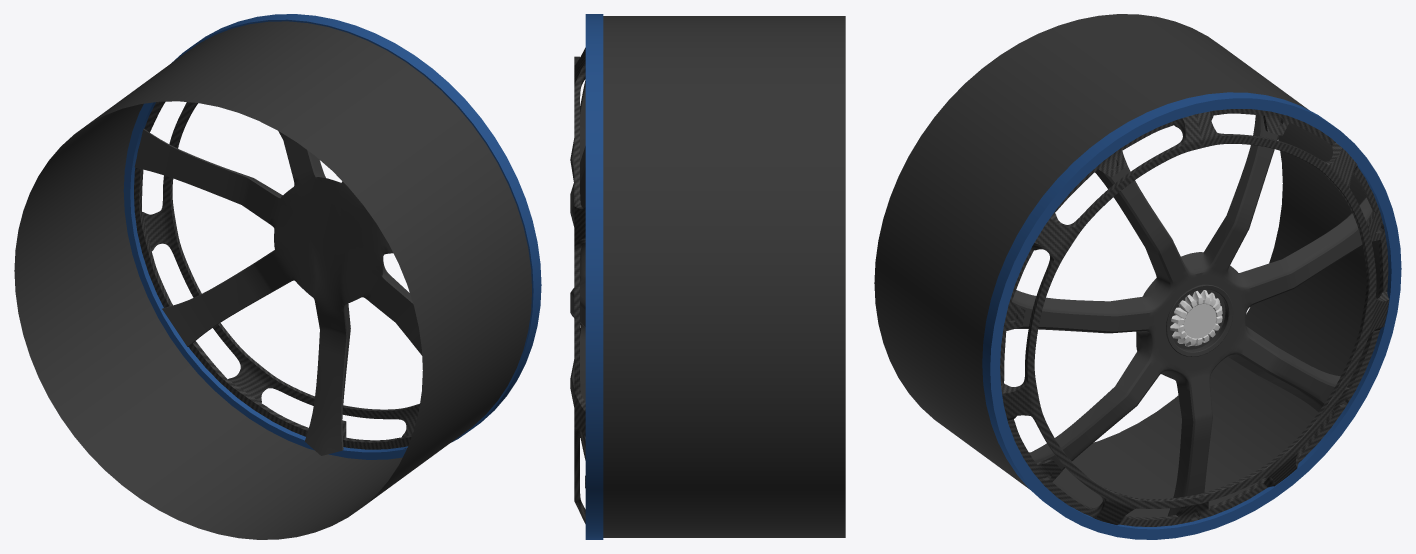
The model's file is blackrim2.fbx.
The picture shows the model from 3 angles, left to right: view 1: azimuth 30°, elevation 25°; view 2: azimuth 150°, elevation 25°; view 3: azimuth 270°, elevation 25°; orthographic projection. The views are drawn at different scales.
Parts seen in each view (by area): view 1: <Wheel.002; view 2: <Wheel.002; view 3: <Wheel.002.
Boxes of the visible parts, left/top/right/bottom form: <Wheel.002: left=14, top=14, right=541, bottom=539; <Wheel.002: left=570, top=14, right=845, bottom=539; <Wheel.002: left=874, top=14, right=1401, bottom=539.
Size of the model in its own units: 184 by 199 by 221.
